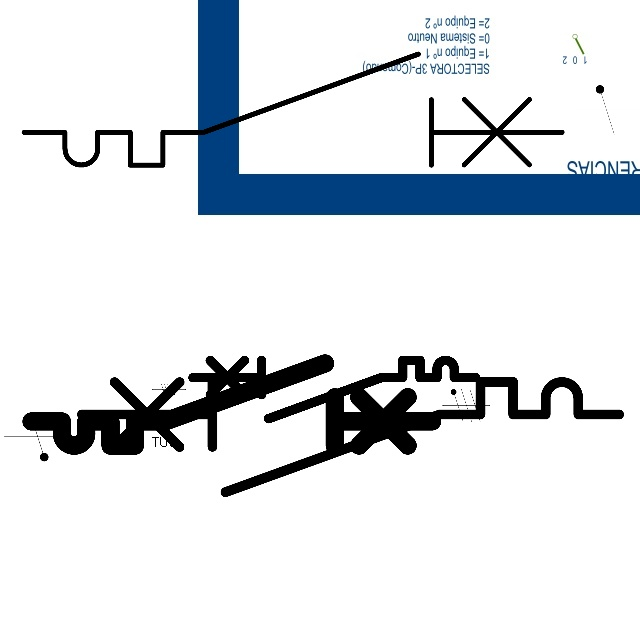interruptor_termomagnetico: (10, 40, 576, 179), (67, 368, 632, 506), (21, 353, 442, 456), (185, 353, 482, 425)
